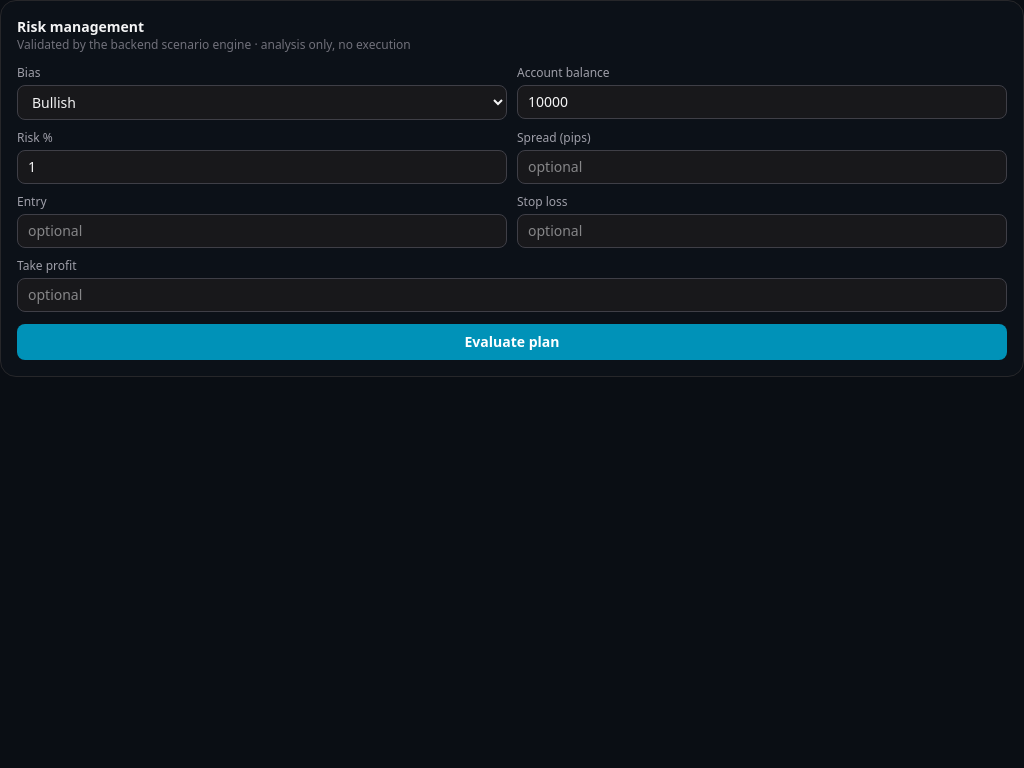
Scenario: RiskPanel › shows validated numbers when the backend computes them
The image size is (1024, 768).
Click the button with test id "compute-plan": [512, 342] box [17,324,1007,360]
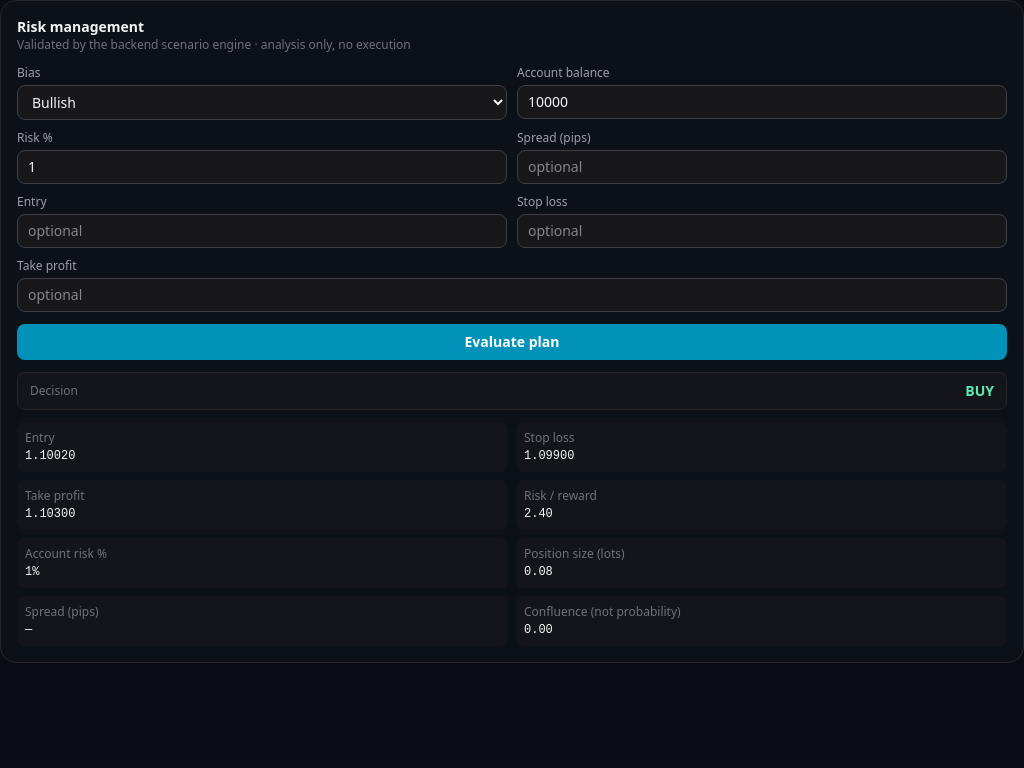
Now the element with test id "risk-result" is shown, box [17,372,1007,646]
Now the text with test id "plan-entry" reads "1.10020", box [25,449,75,463]
Now the text with test id "plan-sl" reads "1.09900", box [524,449,574,463]
